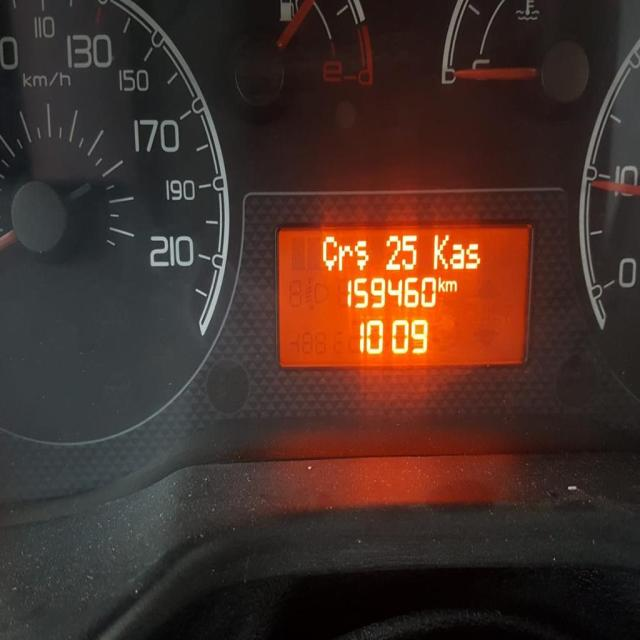odometer: (277, 225, 531, 369)
